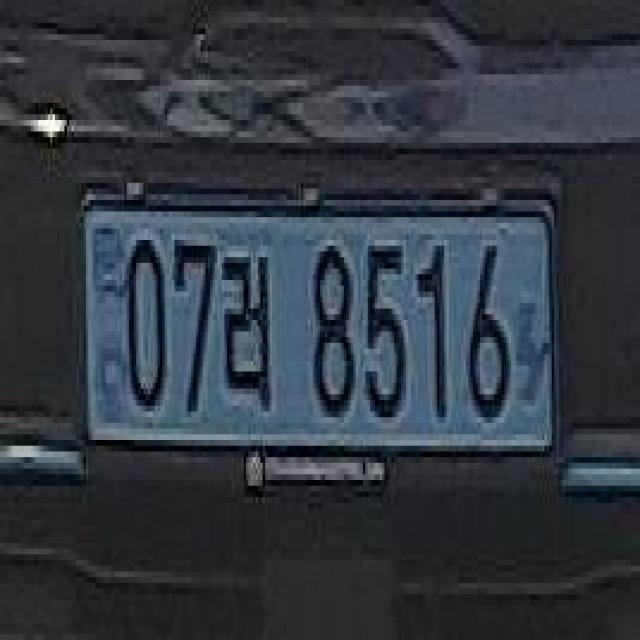EV_plate: (81, 157, 560, 508)
